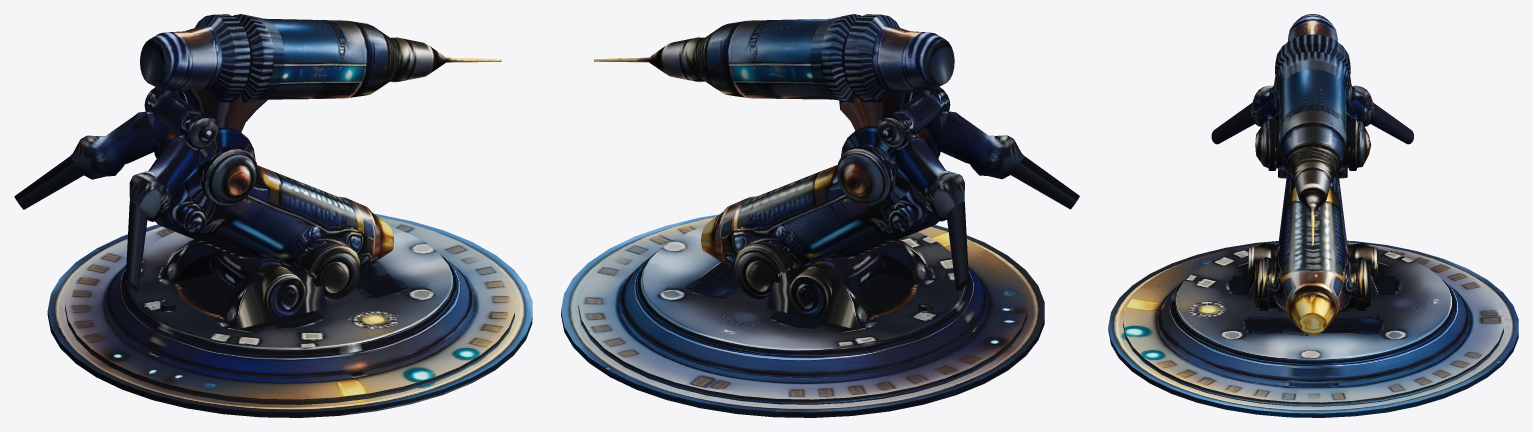
File: Dramel_with_texture.fbx
3 views of the same model, side by side, from view 1: azimuth 30°, elevation 25°; view 2: azimuth 150°, elevation 25°; view 3: azimuth 270°, elevation 25° (orthographic). The views are drawn at different scales.
Visible parts, largest first — view 1: polySurface2, pCylinder11; view 2: polySurface2, pCylinder11; view 3: polySurface2, pCylinder11.
Part boxes in pixels (x1,y1,x2,y2): polySurface2: [47, 214, 532, 417]; pCylinder11: [14, 14, 501, 317]; polySurface2: [561, 214, 1044, 417]; pCylinder11: [594, 14, 1079, 316]; polySurface2: [1108, 240, 1518, 417]; pCylinder11: [1211, 14, 1413, 334].
Bounding box in the file's own units: 99.95 × 70.05 × 97.27.
